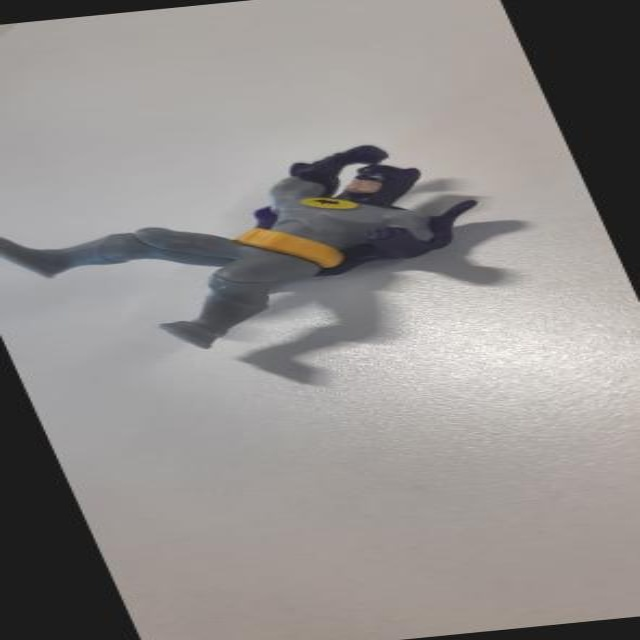Batman: (0, 138, 525, 363)
